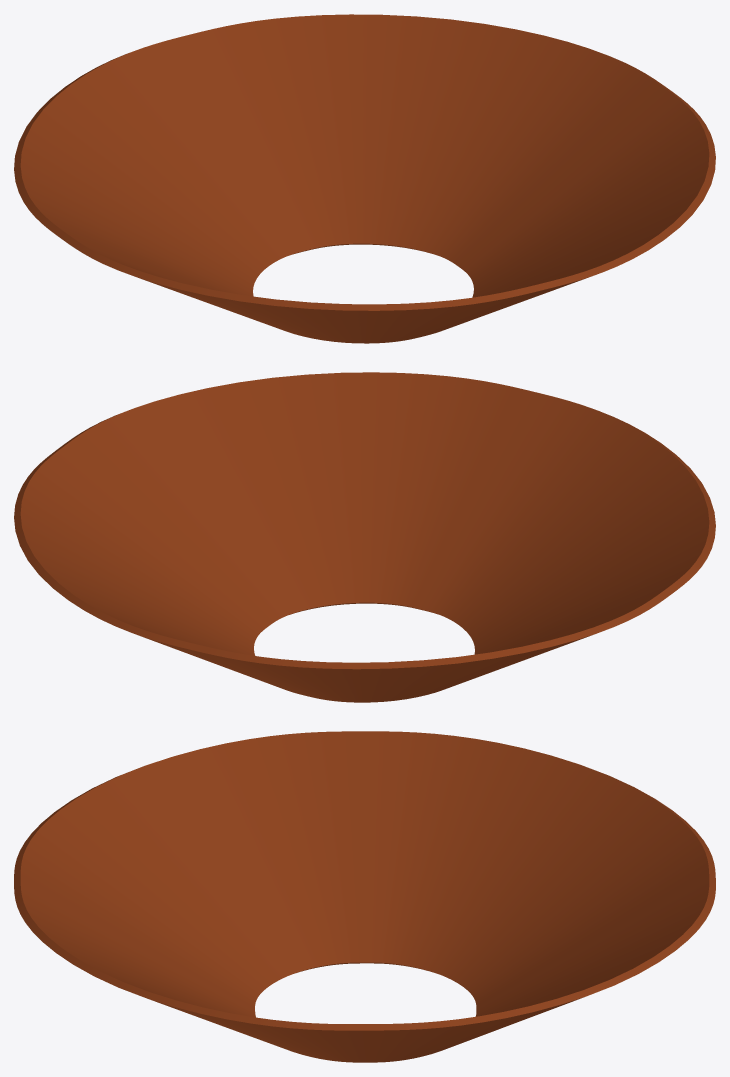
File: BaseCuartoMastil.fbx
3 views of the same model, one above another, from view 1: azimuth 30°, elevation 25°; view 2: azimuth 150°, elevation 25°; view 3: azimuth 270°, elevation 25° (orthographic).
Visible parts, largest first — view 1: basecuartomastil; view 2: basecuartomastil; view 3: basecuartomastil.
Boxes of the visible parts, x1,y1,x2,y2 form: basecuartomastil: (14, 14, 715, 343); basecuartomastil: (14, 372, 715, 702); basecuartomastil: (14, 731, 715, 1062).
Bounding box in the file's own units: 603 × 128 × 600.
